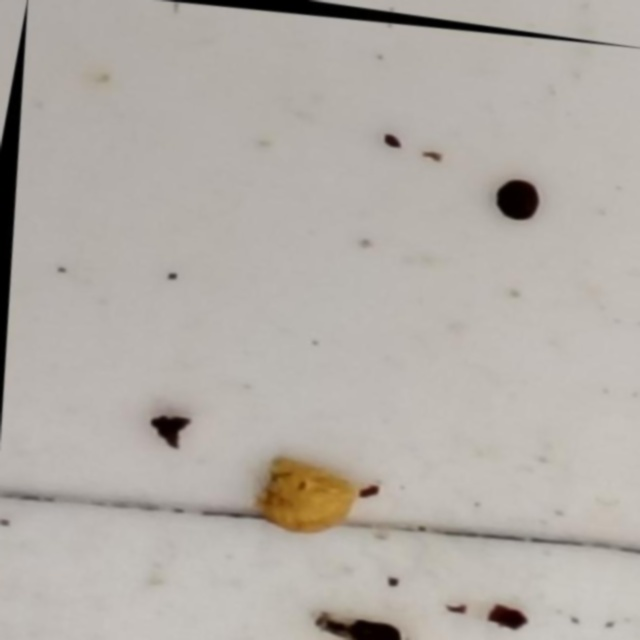varroa: (483, 176, 541, 229)
